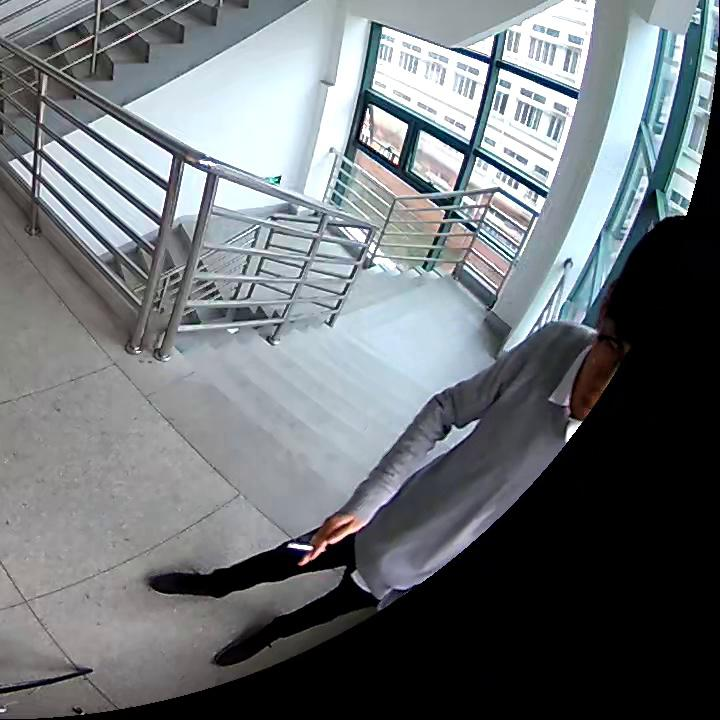handsmoke: (286, 513, 360, 567)
